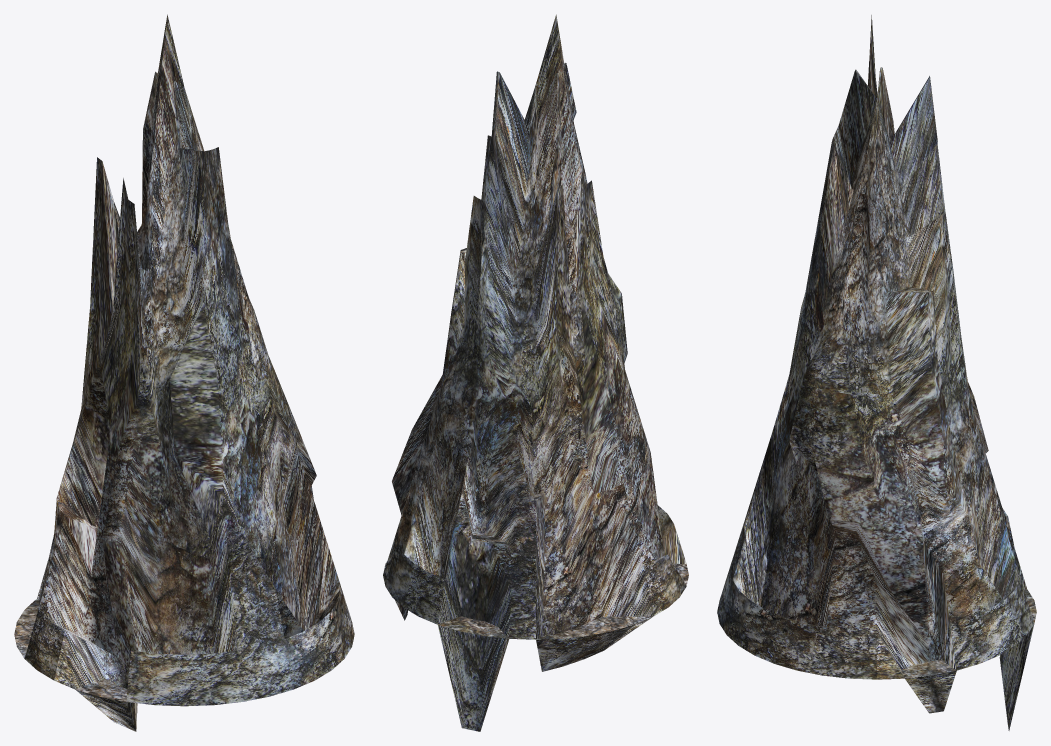
The model's file is stalaktnit.fbx.
The picture shows the model from 3 angles, left to right: view 1: azimuth 30°, elevation 25°; view 2: azimuth 150°, elevation 25°; view 3: azimuth 270°, elevation 25°; orthographic projection. The views are drawn at different scales.
Parts seen in each view (by area): view 1: Kegel; view 2: Kegel; view 3: Kegel.
Part boxes in pixels (x1,y1,x2,y2): Kegel: (14, 14, 354, 731); Kegel: (383, 14, 688, 731); Kegel: (717, 15, 1036, 730).
Size of the model in its own units: 114 by 277 by 114.
1 material, 1 textured.
